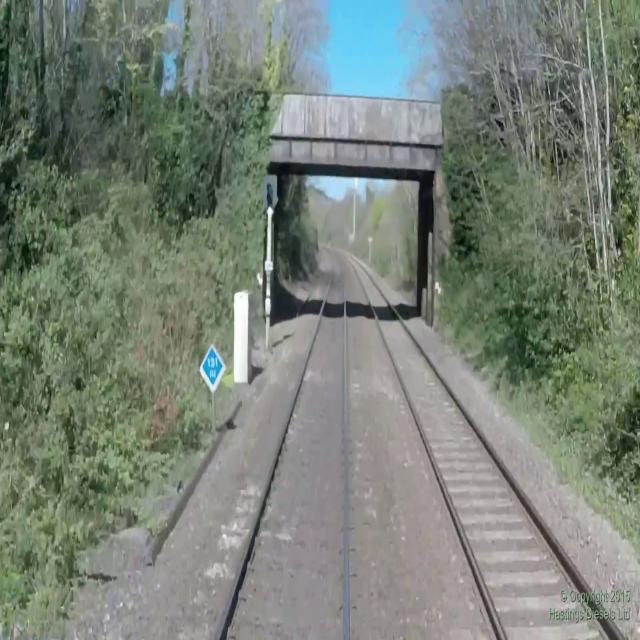rail-track: (346, 255, 618, 639), (219, 251, 344, 639)
